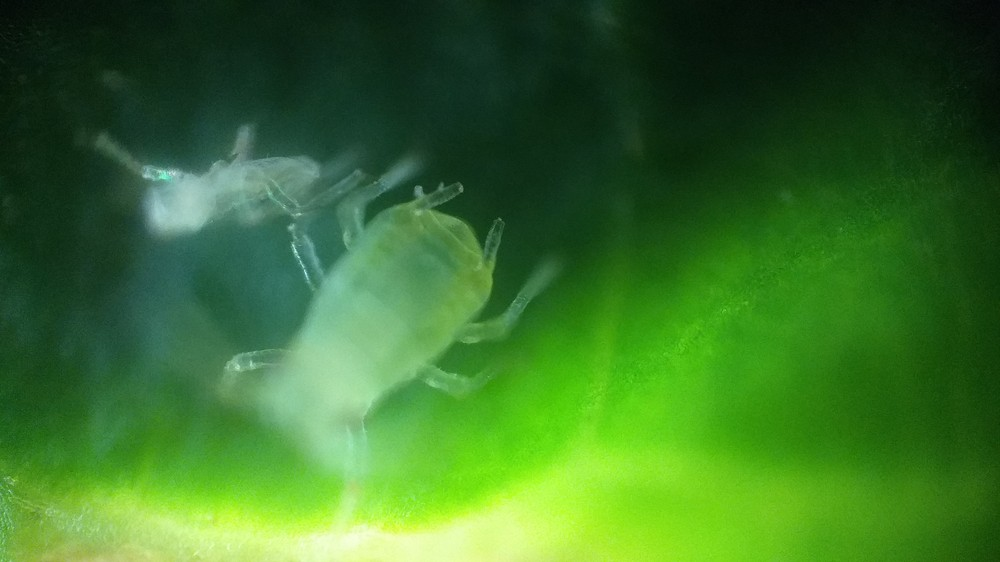Pulgon: (215, 160, 578, 513)
